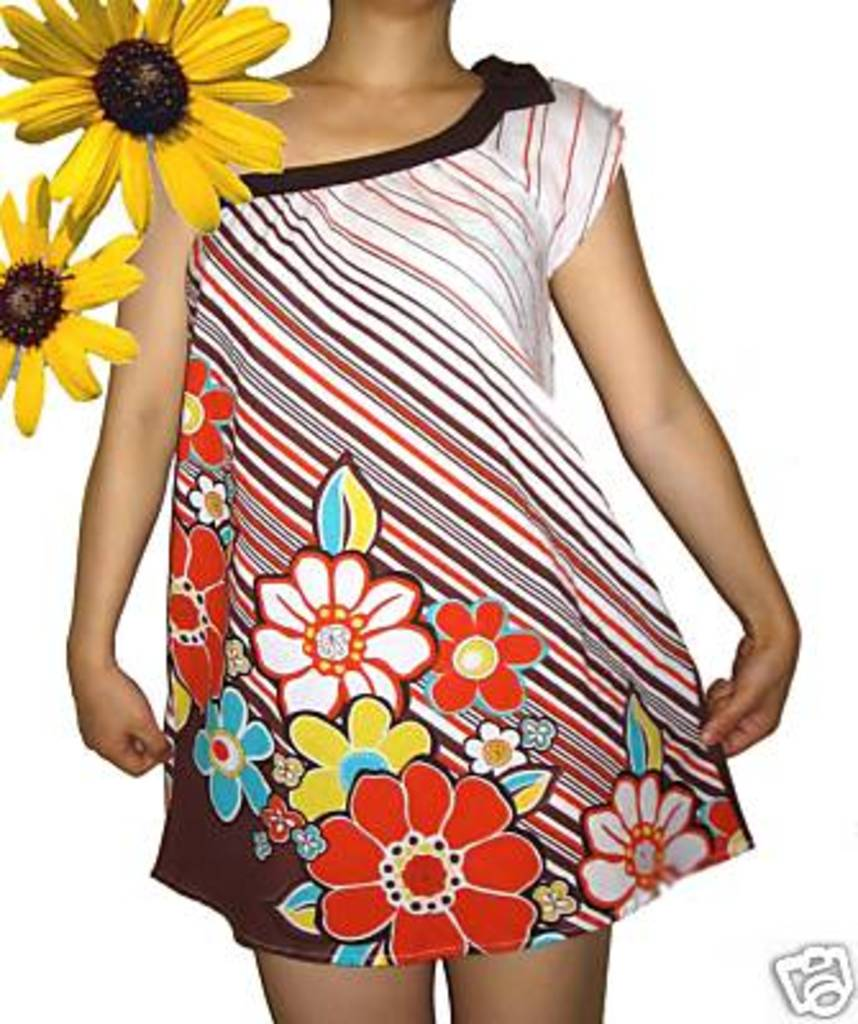Person: (65, 0, 801, 1023)
